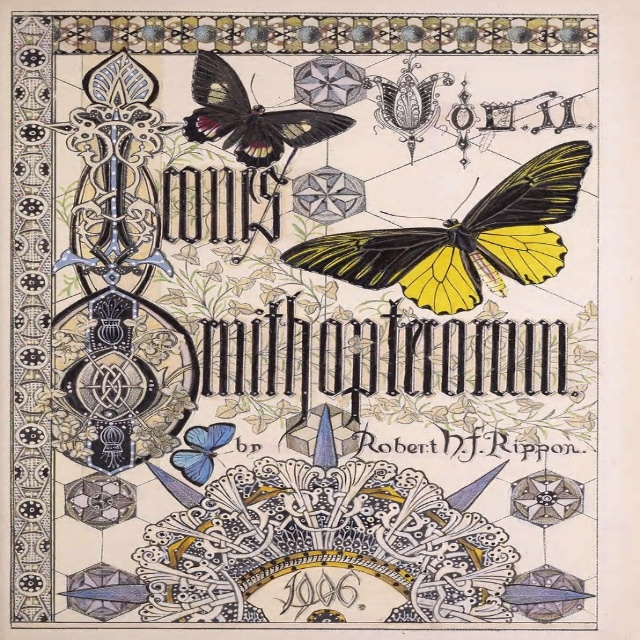Butterfly: (281, 134, 599, 318), (173, 53, 357, 162), (164, 416, 237, 487)
